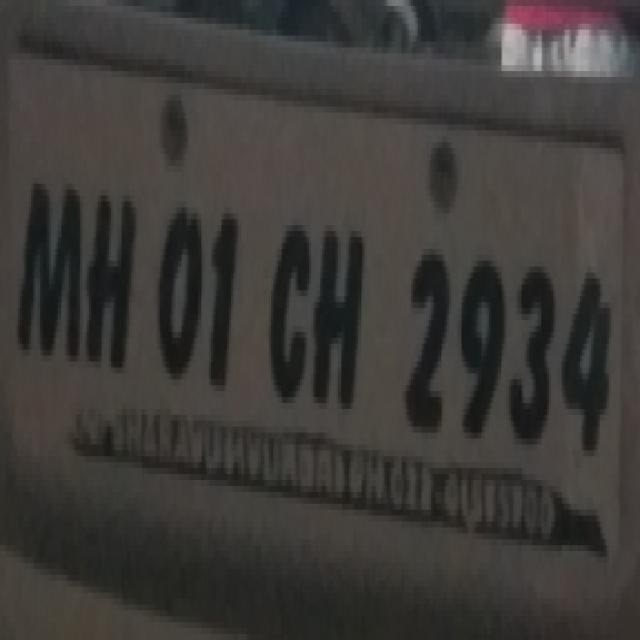0: (156, 190, 202, 373)
1: (208, 200, 240, 411)
3: (510, 260, 558, 448)
4: (561, 258, 617, 453)
9: (456, 236, 512, 453)
C: (266, 212, 312, 410)
H: (87, 175, 140, 378), (315, 215, 366, 408)
M: (12, 154, 85, 386)
